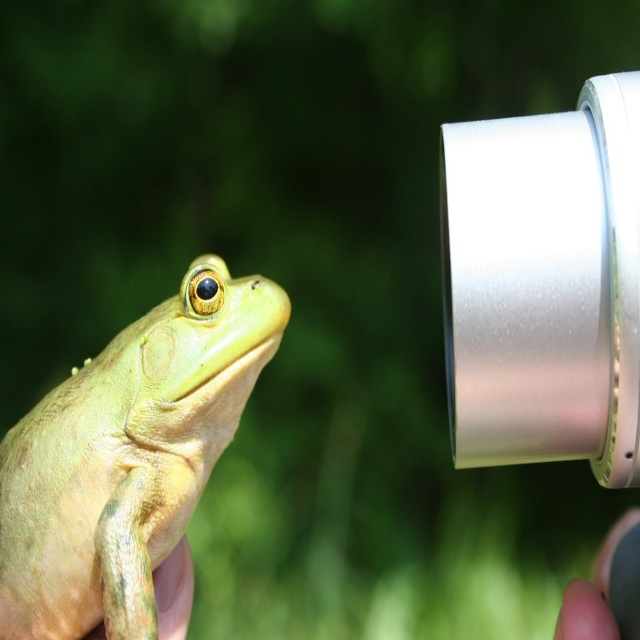Frog: (0, 253, 293, 639)
